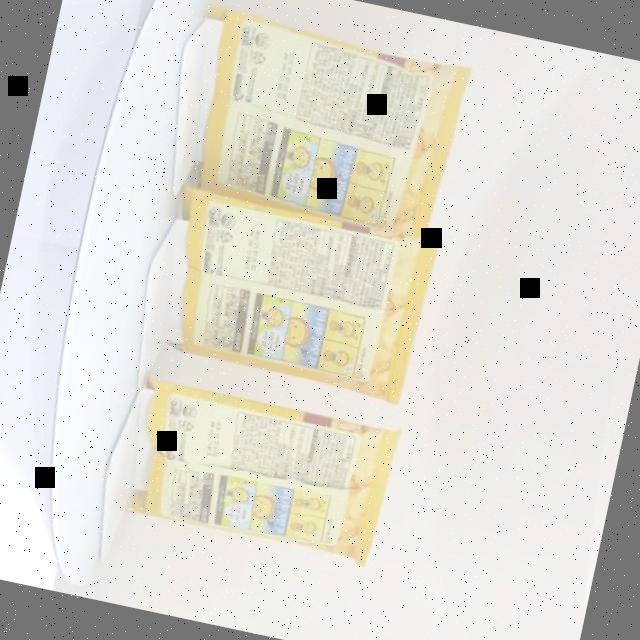snack_bag: (90, 0, 489, 583)
